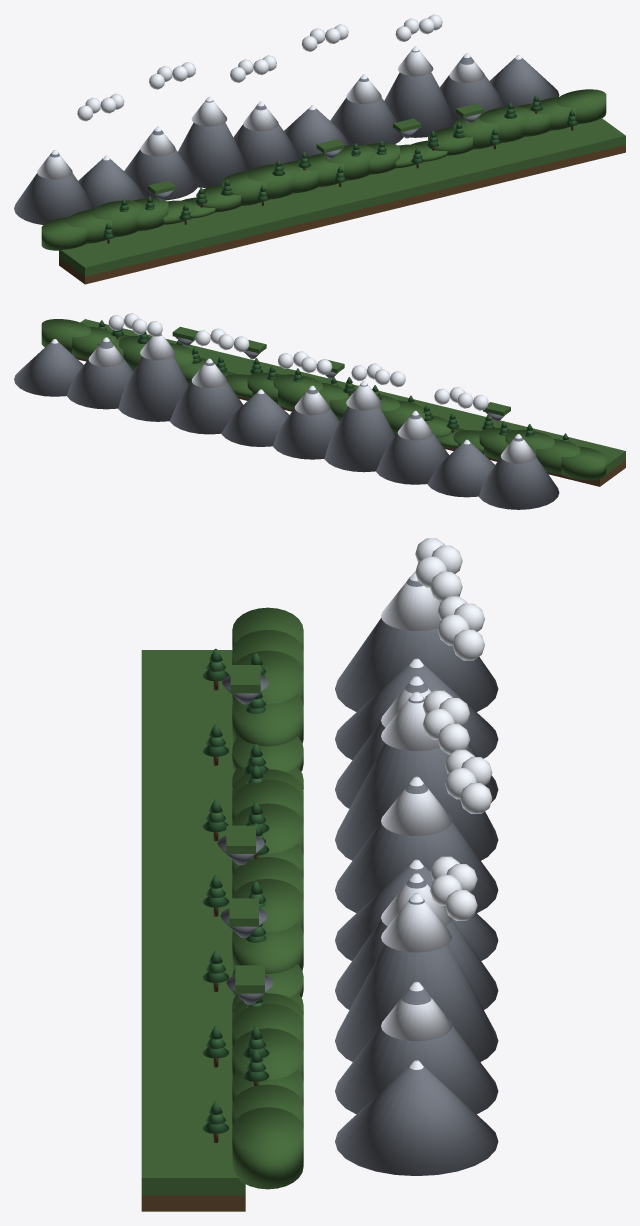
The model's file is platformer_course.glb.
3 renders of one model, top to bottom at view 1: azimuth 30°, elevation 25°; view 2: azimuth 150°, elevation 25°; view 3: azimuth 270°, elevation 25°, orthographic. The views are drawn at different scales.
Parts seen in each view (by area): view 1: Cone.006, Cone.014, Cone, Cone.012, Cone.004, Cone.018, Cone.008, Cone.002, Cone.010, Cone.016, Cylinder.020, Cylinder (+46 smaller); view 2: Cone.006, Cone.014, Cone, Cone.012, Cone.004, Cone.008, Cone.018, Cone.016, Cone.010, Cone.002, Cylinder, Cylinder.020 (+27 smaller); view 3: Cone.018, Cone.014, Cone.016, Cone, Cone.006, Cone.008, Cylinder.020, FgGround_52, Cone.002, Cone.012, Cone.010, Cylinder.003 (+42 smaller).
Boxes of the visible parts, x1,y1,x2,y2 form: Cone.006: (178, 100, 247, 187); Cone.014: (384, 50, 454, 137); Cone: (14, 152, 93, 224); Cone.012: (330, 77, 403, 145); Cone.004: (124, 130, 197, 200); Cone.018: (490, 58, 559, 106); Cone.008: (233, 104, 299, 170); Cone.002: (78, 158, 144, 209); Cone.010: (284, 108, 349, 159); Cone.016: (439, 56, 504, 121); Cylinder.020: (556, 89, 606, 123); Cylinder: (41, 217, 86, 250); Cone.006: (324, 384, 395, 472); Cone.014: (118, 334, 188, 421); Cone: (479, 437, 559, 509); Cone.012: (170, 361, 243, 434); Cone.004: (376, 414, 449, 484); Cone.008: (273, 389, 339, 459); Cone.018: (14, 341, 83, 396); Cone.016: (67, 340, 133, 409); Cone.010: (221, 392, 289, 446); Cone.002: (427, 442, 494, 497); Cylinder: (561, 446, 606, 480); Cylinder.020: (41, 319, 90, 353); Cone.018: (335, 1065, 498, 1175); Cone.014: (335, 898, 498, 1061); Cone.016: (335, 987, 498, 1114); Cone: (335, 577, 498, 711); Cone.006: (335, 697, 498, 860); Cone.008: (335, 782, 498, 913); Cylinder.020: (232, 1107, 303, 1189); FgGround_52: (141, 1152, 245, 1196); Cone.002: (335, 663, 498, 759); Cone.012: (335, 878, 498, 1009); Cone.010: (335, 865, 498, 960); Cylinder.003: (232, 694, 303, 746).
Size of the model in its own units: 87.2 by 17.62 by 24.
